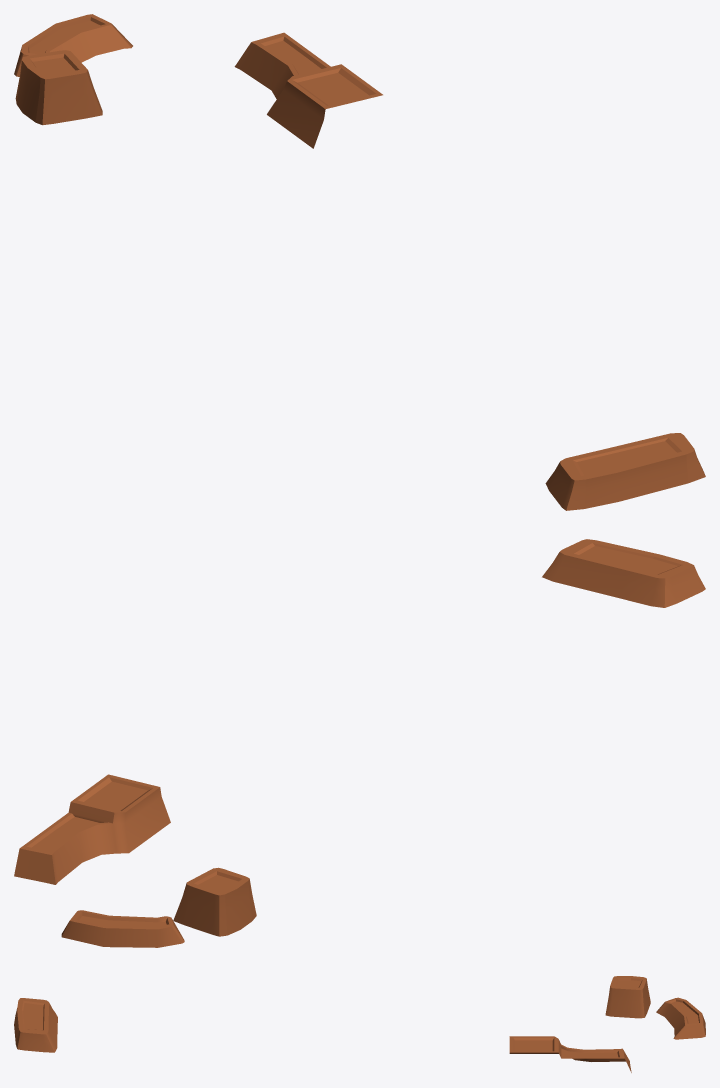
Rendered from Plant Fields.fbx.
3 renders of one model, top to bottom at view 1: azimuth 30°, elevation 25°; view 2: azimuth 150°, elevation 25°; view 3: azimuth 270°, elevation 25°, orthographic. The views are drawn at different scales.
Visible parts, largest first — view 1: Field_04, Field_01, Field_02, Field_03; view 2: Field_01, Field_04, Field_02, Field_03; view 3: Field_04, Field_01, Field_02, Field_03.
Boxes of the visible parts, x1,y1,x2,y2 form: Field_04: [545, 433, 705, 510]; Field_01: [234, 32, 382, 148]; Field_02: [15, 50, 102, 125]; Field_03: [14, 14, 132, 76]; Field_01: [14, 774, 170, 884]; Field_04: [542, 539, 705, 607]; Field_02: [173, 867, 256, 936]; Field_03: [61, 910, 184, 947]; Field_04: [14, 998, 57, 1052]; Field_01: [509, 1036, 631, 1072]; Field_02: [605, 976, 650, 1018]; Field_03: [656, 997, 705, 1039].
Bounding box in the file's own units: 466 × 98.32 × 1897.
